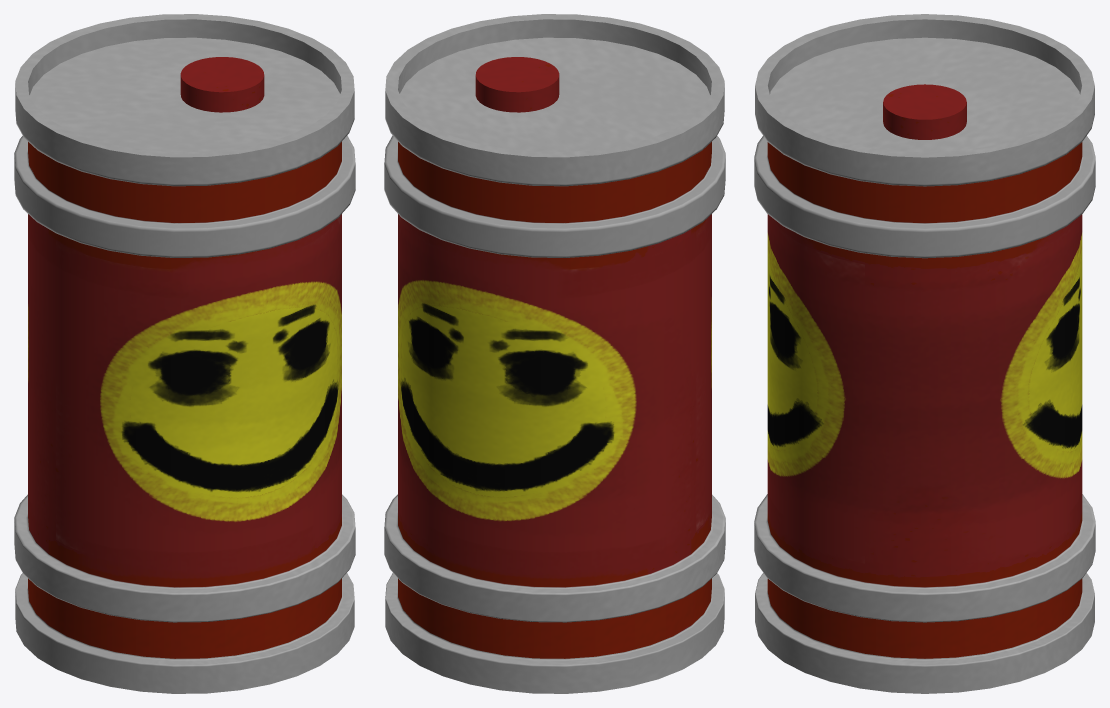
File: Barrel2.fbx
3 views of the same model, side by side, from view 1: azimuth 30°, elevation 25°; view 2: azimuth 150°, elevation 25°; view 3: azimuth 270°, elevation 25° (orthographic).
Parts seen in each view (by area): view 1: Cylinder; view 2: Cylinder; view 3: Cylinder.
Boxes of the visible parts, box(x1,y1,x2,y2) form: Cylinder: box(14, 14, 355, 693); Cylinder: box(384, 14, 725, 693); Cylinder: box(754, 14, 1095, 693).
Size of the model in its own units: 124 by 216 by 124.
